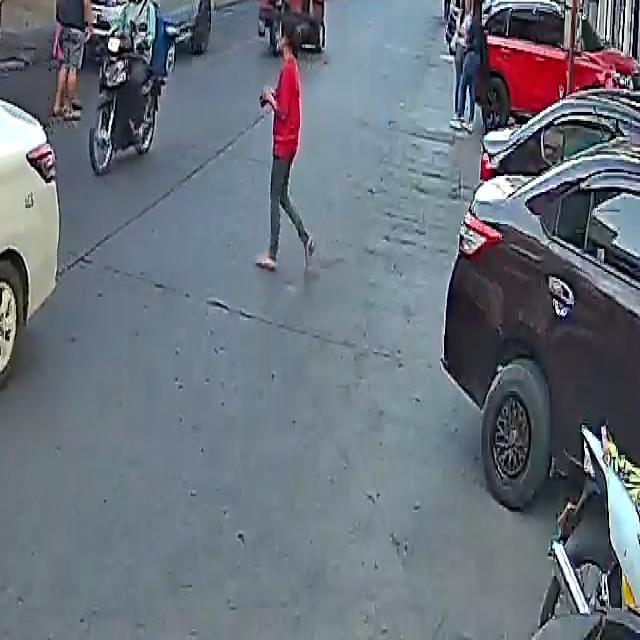car: (443, 49, 640, 542), (0, 0, 72, 578), (473, 0, 640, 123), (86, 0, 213, 57)
